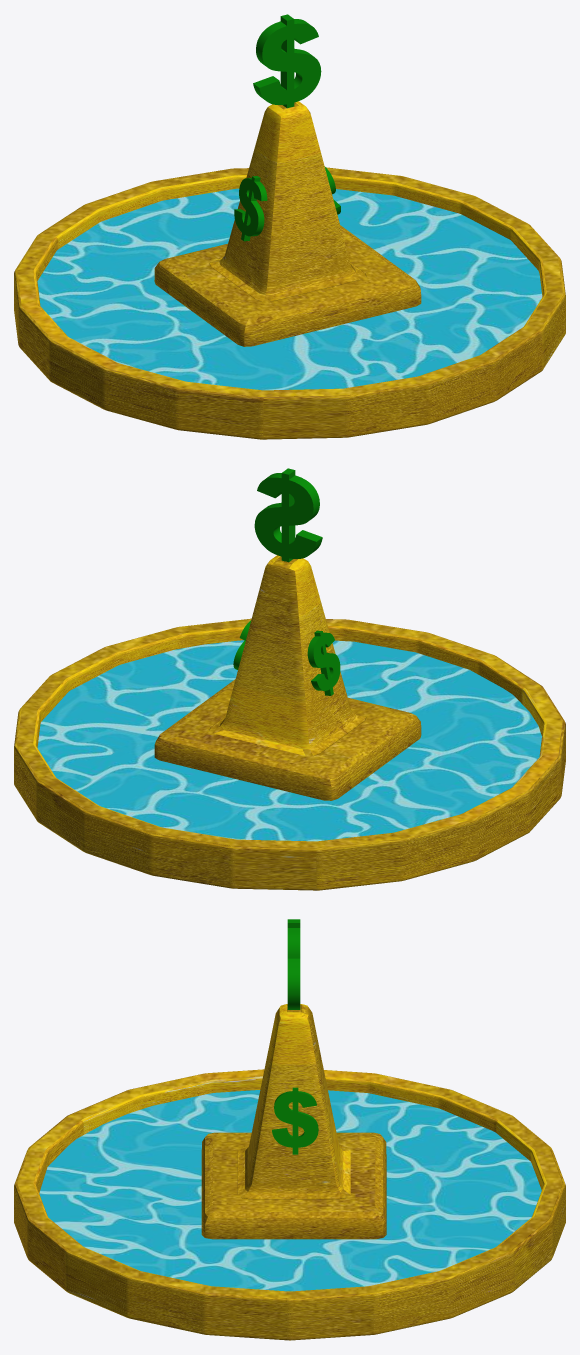
File: kawaiine_fontaine.fbx
3 views of the same model, one above another, from view 1: azimuth 30°, elevation 25°; view 2: azimuth 150°, elevation 25°; view 3: azimuth 270°, elevation 25° (orthographic).
Parts seen in each view (by area): view 1: water, fontaine_bottom, fontaine_middle, dollar_top, dollar_side02; view 2: water, fontaine_bottom, fontaine_middle, dollar_top, dollar_side02; view 3: water, fontaine_bottom, fontaine_middle, dollar_side01, dollar_top.
Boxes of the visible parts, x1,y1,x2,y2 form: water: [37, 188, 542, 390]; fontaine_bottom: [14, 167, 565, 439]; fontaine_middle: [154, 101, 421, 346]; dollar_top: [253, 14, 321, 108]; dollar_side02: [234, 176, 267, 241]; water: [37, 640, 541, 841]; fontaine_bottom: [14, 618, 565, 890]; fontaine_middle: [154, 555, 421, 800]; dollar_top: [254, 468, 322, 562]; dollar_side02: [307, 630, 340, 695]; water: [39, 1090, 541, 1291]; fontaine_bottom: [14, 1069, 565, 1340]; fontaine_middle: [201, 1004, 386, 1239]; dollar_side01: [272, 1087, 318, 1154]; dollar_top: [287, 919, 300, 1009].
Size of the model in its own units: 112 by 67.74 by 112.
3 materials, 3 textured.
